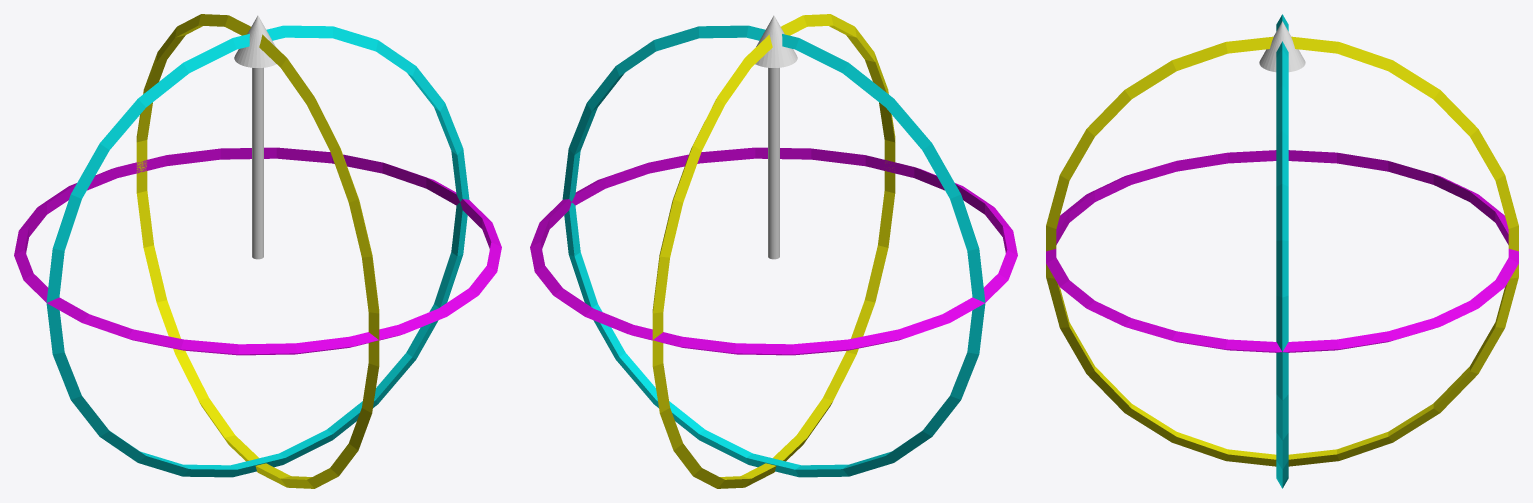
Rendered from Rotate.fbx.
3 renders of one model, left to right at view 1: azimuth 30°, elevation 25°; view 2: azimuth 150°, elevation 25°; view 3: azimuth 270°, elevation 25°, orthographic. The views are drawn at different scales.
Visible parts, largest first — view 1: Torus, Torus.002, Torus.001, Cylinder.001, Cone.001; view 2: Torus, Torus.002, Torus.001, Cylinder.001, Cone.001; view 3: Torus.002, Torus.001, Torus, Cone.001.
Boxes of the visible parts, x1,y1,x2,y2 form: Torus: (46, 25, 469, 477); Torus.002: (136, 14, 379, 488); Torus.001: (14, 147, 501, 355); Cylinder.001: (252, 67, 263, 259); Cone.001: (234, 15, 276, 67); Torus: (562, 25, 985, 477); Torus.002: (652, 14, 895, 488); Torus.001: (530, 147, 1017, 355); Cylinder.001: (768, 67, 779, 259); Cone.001: (755, 15, 797, 67); Torus.002: (1046, 36, 1518, 466); Torus.001: (1046, 150, 1518, 352); Torus: (1276, 14, 1288, 488); Cone.001: (1259, 21, 1305, 72).
Bounding box in the file's own units: 206 × 213 × 204.
